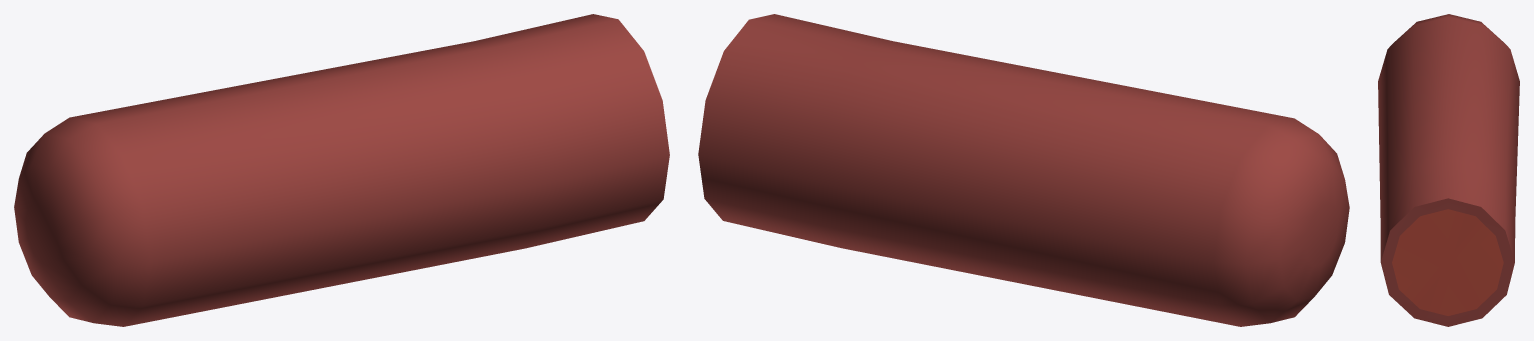
Rendered from Sausage_half.004.fbx.
3 views of the same model, side by side, from view 1: azimuth 30°, elevation 25°; view 2: azimuth 150°, elevation 25°; view 3: azimuth 270°, elevation 25° (orthographic). The views are drawn at different scales.
Visible parts, largest first — view 1: Sausage_half.004; view 2: Sausage_half.004; view 3: Sausage_half.004.
Part boxes in pixels (<box>): Sausage_half.004: <box>14,14,669,326</box>; Sausage_half.004: <box>698,14,1349,326</box>; Sausage_half.004: <box>1378,14,1519,326</box>.
Bounding box in the file's own units: 79.77 × 25.95 × 28.84.
